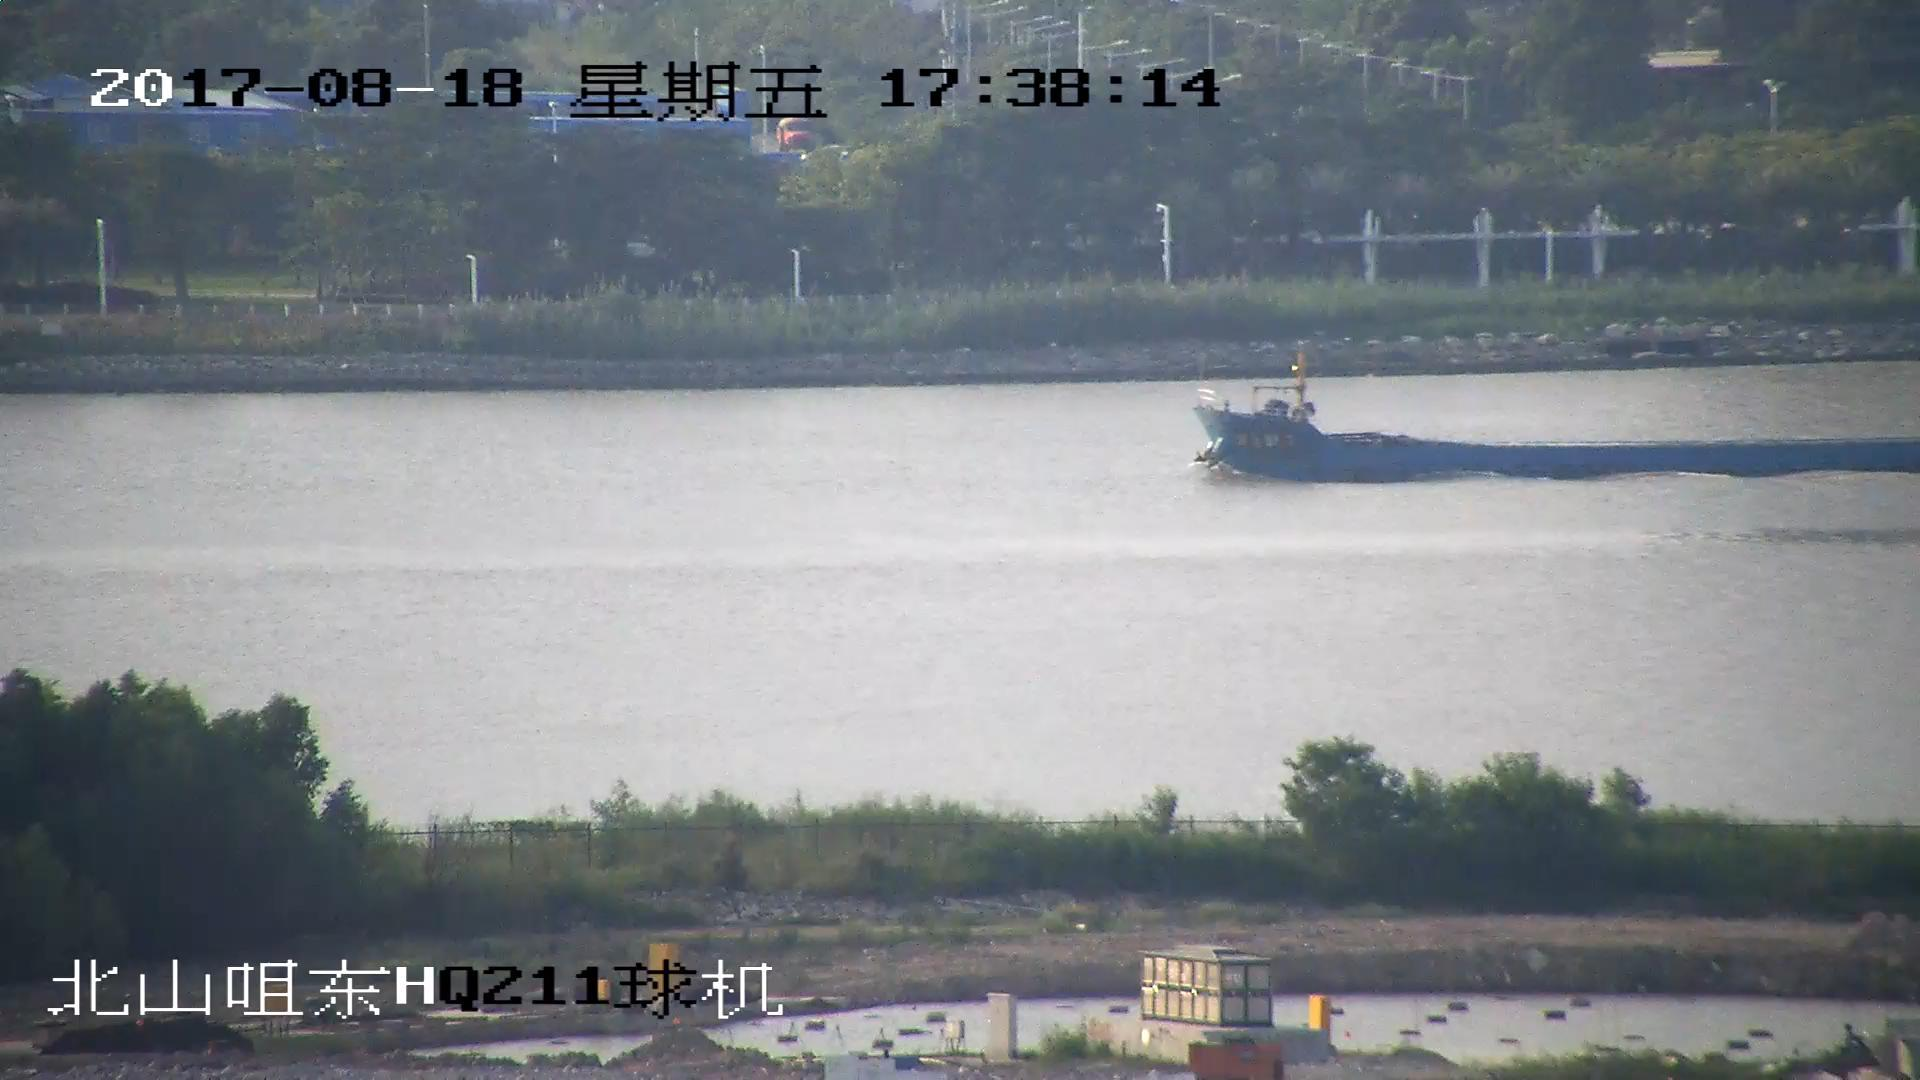Ship: (1187, 356, 1920, 483)
